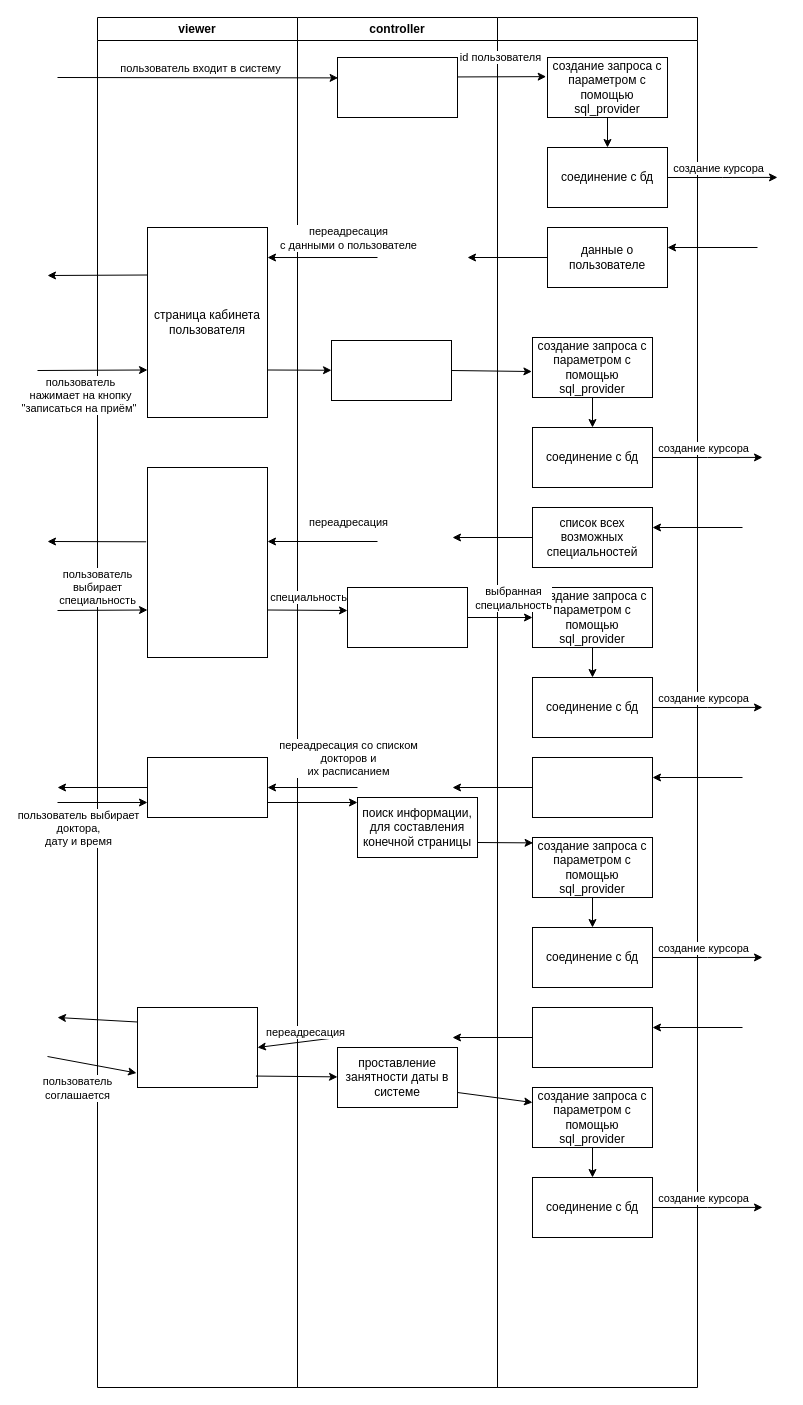
The diagram is 803 pixels wide and 1405 high, and some of its shapes have lost their labels. The shapes that lost their labels are listed below. From the top down, each one's box as (x1, y1, x2, y2) in pixels, then its label:
(336, 56, 458, 118): получение персональных данных пользователя
(330, 340, 452, 400): поиск специальностей
(146, 466, 268, 658): страница страница с выбором специальности
(346, 586, 468, 648): поиск доктора по специальности и доступных даты и времени
(496, 16, 698, 1388): model
(146, 756, 268, 818): страница с выбором доктора, времени и даты
(532, 756, 652, 818): список докторов и дат и времени, которые свободны
(136, 1006, 258, 1088): страница для подтверждения записи
(532, 1006, 652, 1068): вся информация, для формирования страницы
